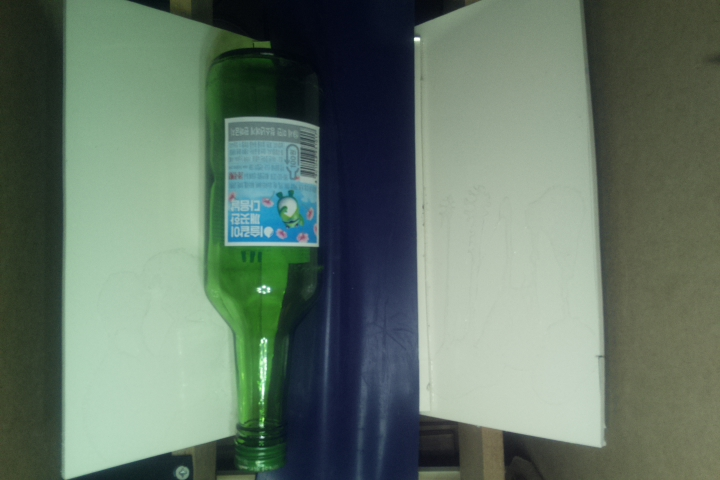soju: (200, 47, 331, 470)
